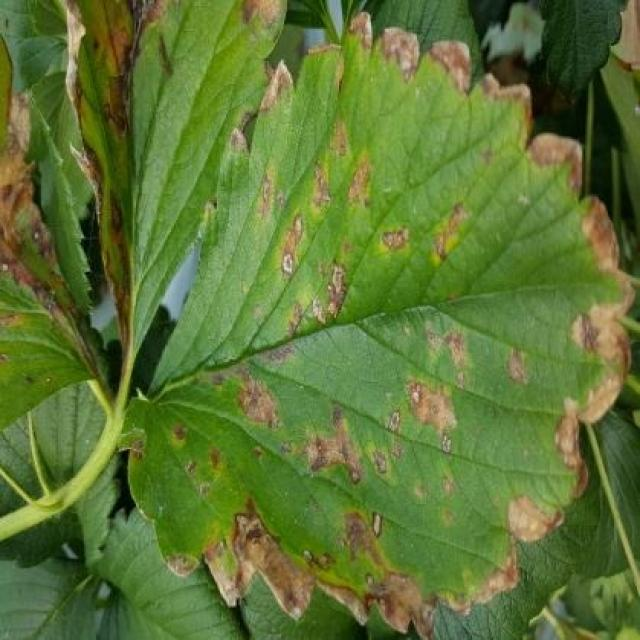Angular Leafspot: (118, 9, 636, 638), (66, 0, 291, 378), (0, 31, 103, 431)
